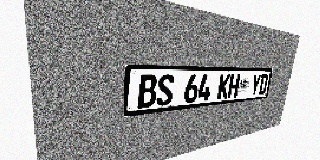4: (197, 74, 212, 102)
6: (184, 74, 200, 103)
B: (137, 75, 157, 109)
D: (258, 74, 268, 95)
H: (227, 74, 240, 98)
K: (217, 74, 231, 100)
S: (156, 75, 175, 106)
Y: (250, 74, 261, 96)
